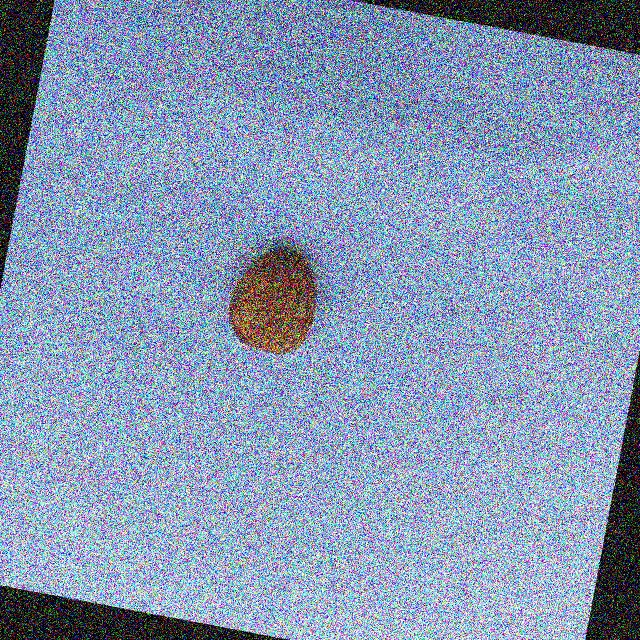grade1: (215, 230, 337, 368)
